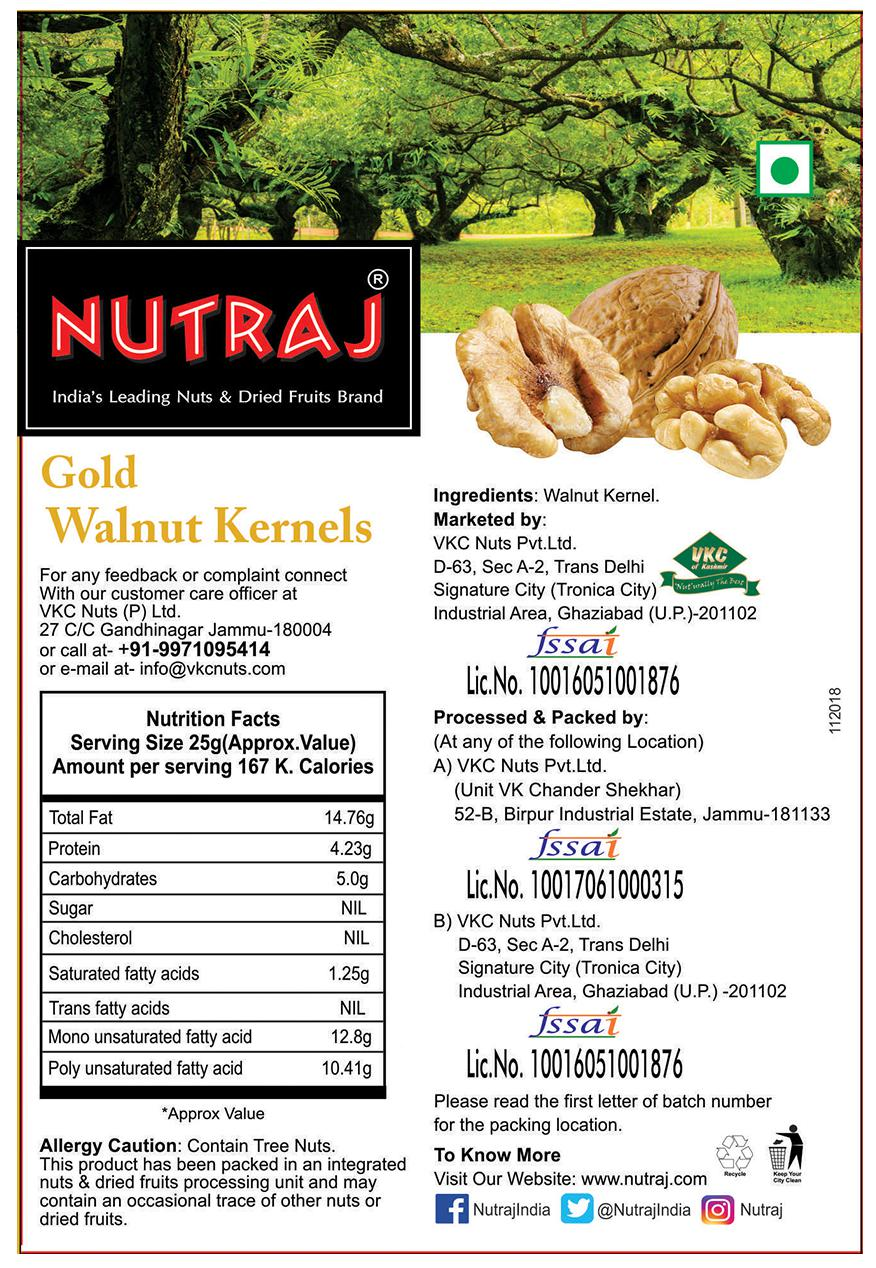fssai: (525, 624, 621, 659), (527, 828, 620, 861), (527, 1006, 621, 1036)
